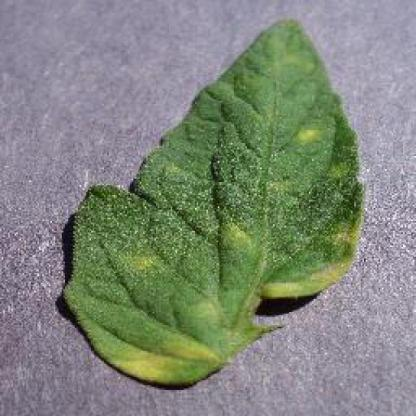Tomato_Leaf_Mold: (68, 21, 360, 384)
